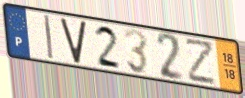2: (155, 30, 185, 83), (93, 24, 122, 71)
3: (123, 27, 152, 75)
I: (42, 13, 55, 61)
V: (59, 18, 88, 66)
Z: (184, 38, 218, 87)
